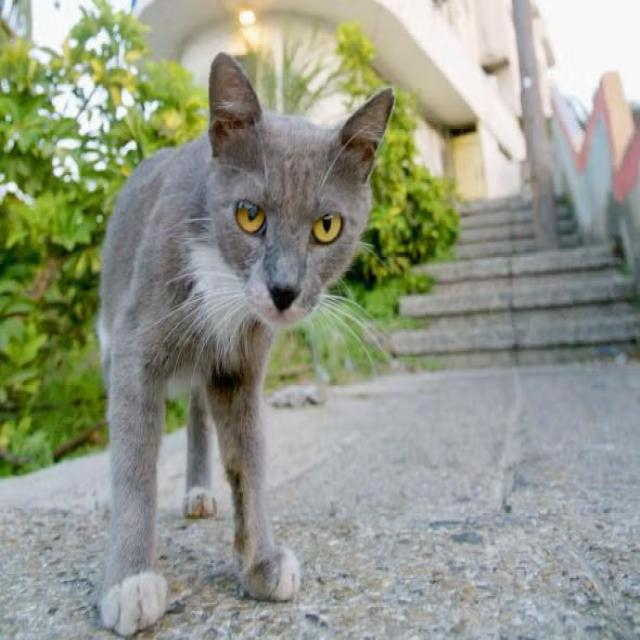cat: (99, 54, 394, 635)
